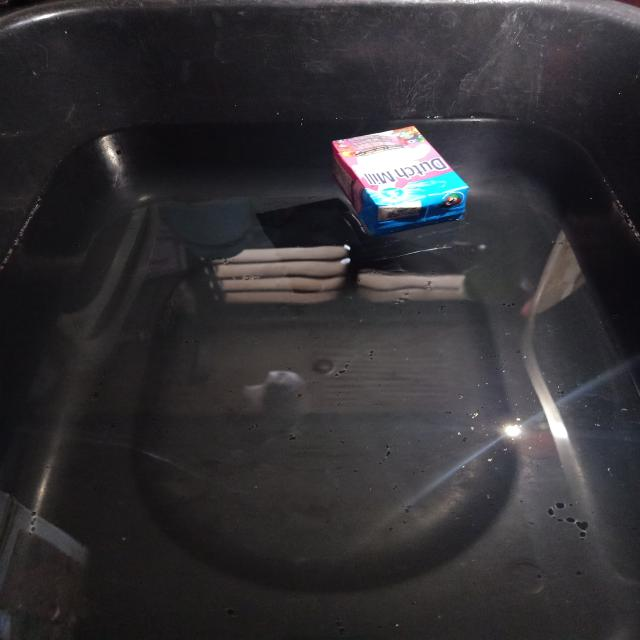Cardboard Box: (332, 126, 468, 237)
